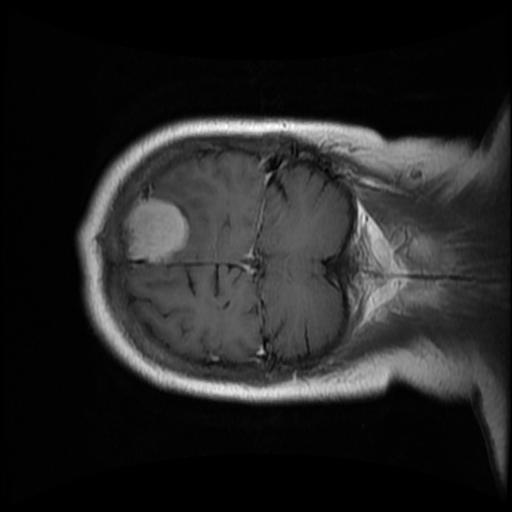meningioma: (122, 198, 188, 264)
